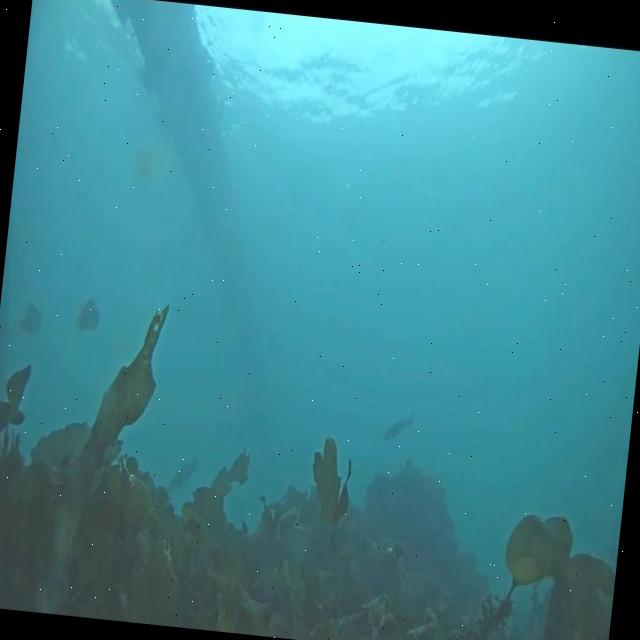fish: (382, 411, 412, 446), (168, 458, 196, 489), (76, 298, 100, 334), (20, 301, 42, 330)
